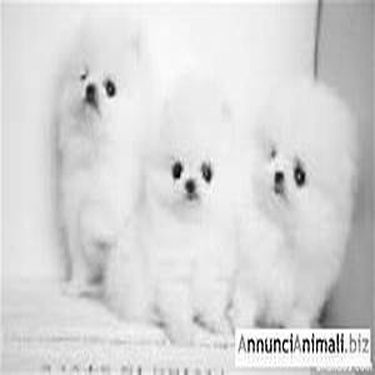dog: (29, 6, 177, 320), (223, 46, 365, 354), (110, 60, 243, 355)
